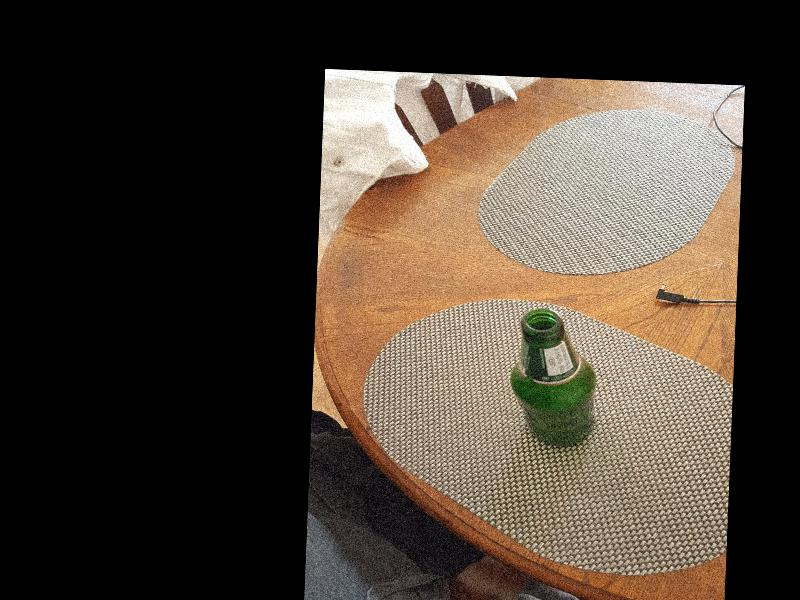Beer: (507, 309, 597, 448)
